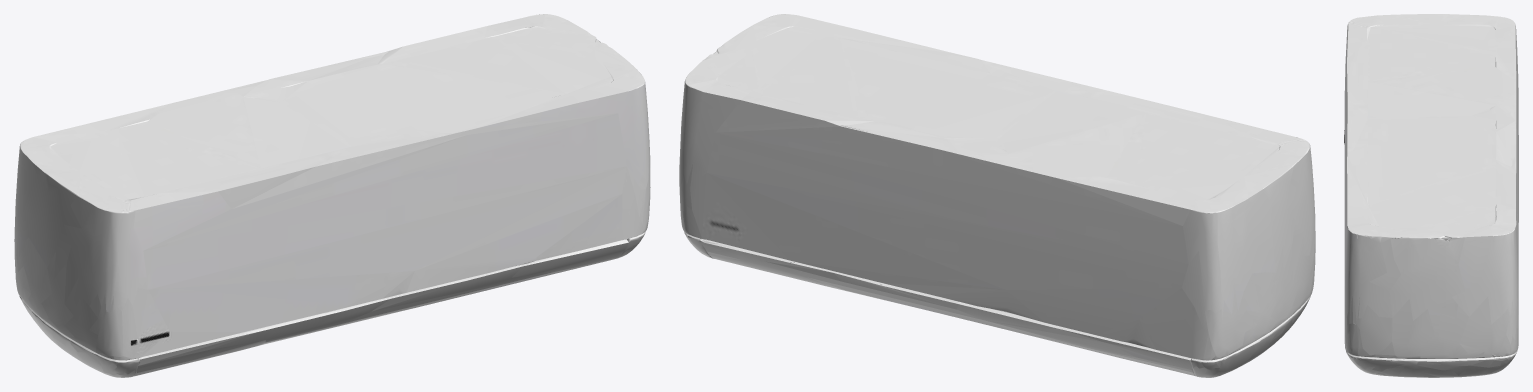
The model's file is tornado-split-ac-smart-16-inv.glb.
3 views of the same model, side by side, from view 1: azimuth 30°, elevation 25°; view 2: azimuth 150°, elevation 25°; view 3: azimuth 270°, elevation 25° (orthographic). The views are drawn at different scales.
Size of the model in its own units: 1.9 by 0.5697 by 0.6149.
1 material, 1 textured.
